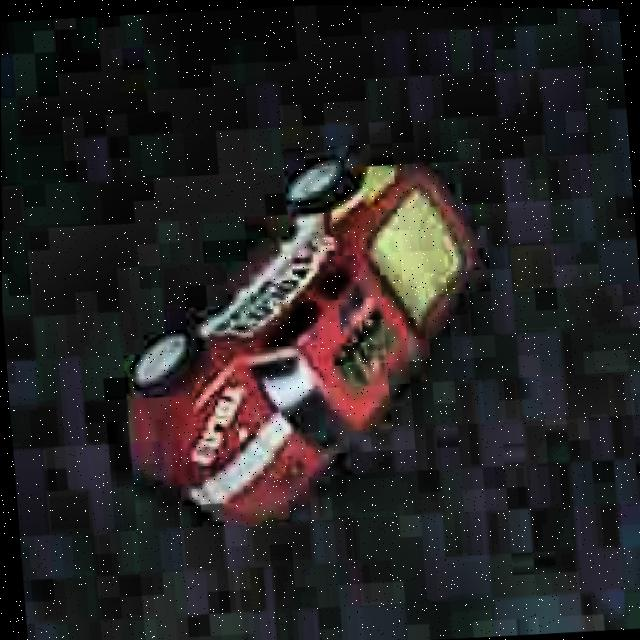car: (98, 139, 505, 551)
